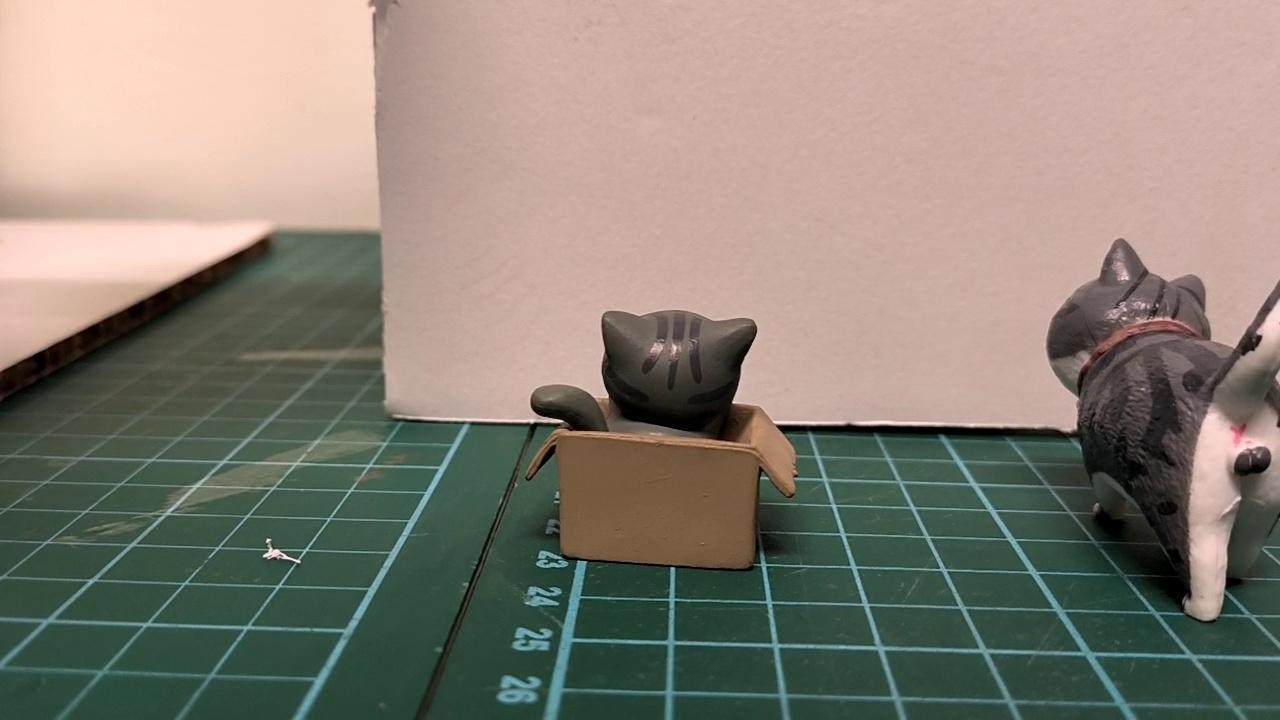pet: (524, 299, 769, 442)
